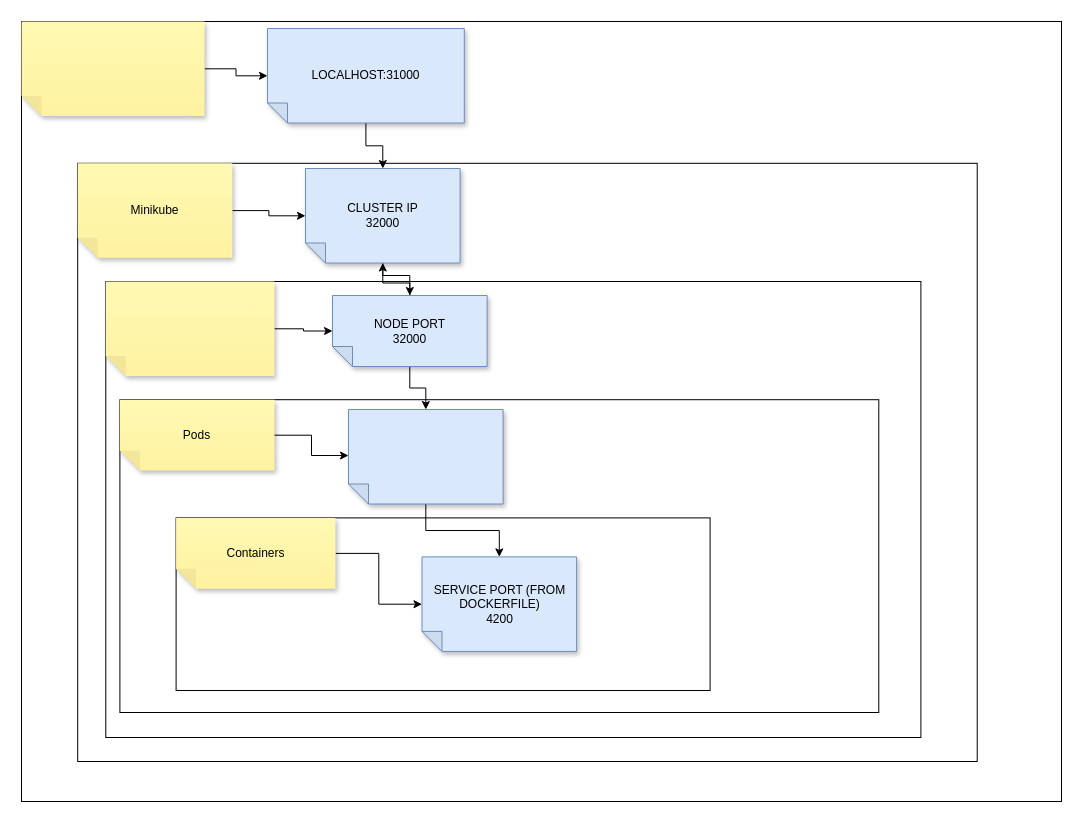
The diagram is 1079 pixels wide and 819 high, and some of its shapes have lost their labels. The shapes that lost their labels are listed below. From the top down, each one's centre as x and y in pixels, then its label:
At (113,69): "MAC".
At (190,329): "Nodes".
At (426,457): "POD IP 4200".
